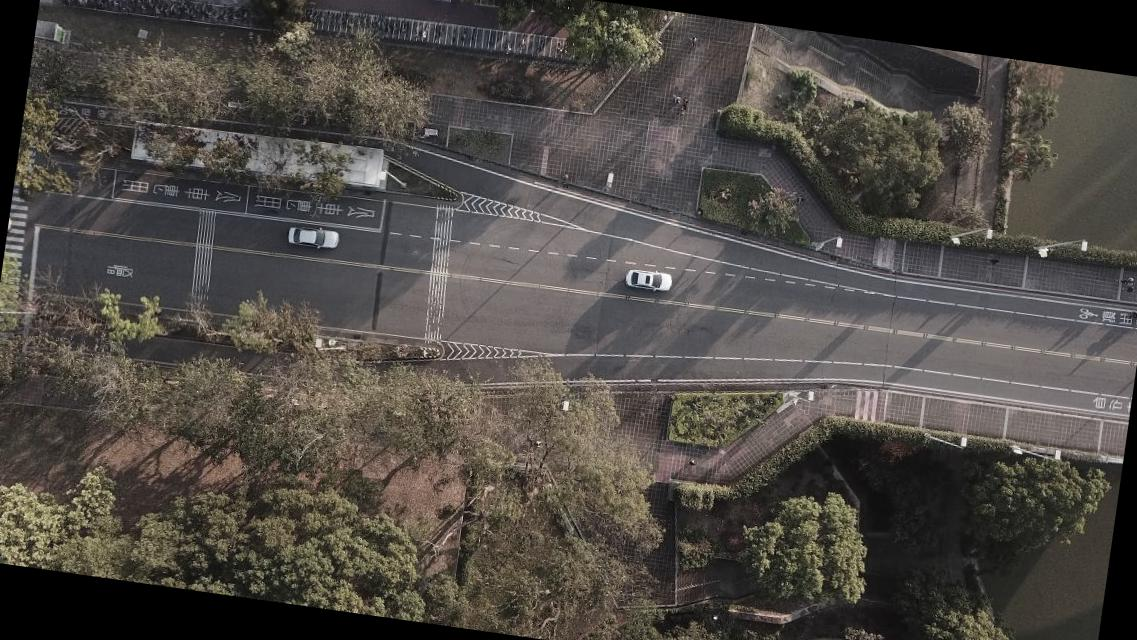vehicle: (284, 222, 340, 252), (622, 266, 672, 294)
